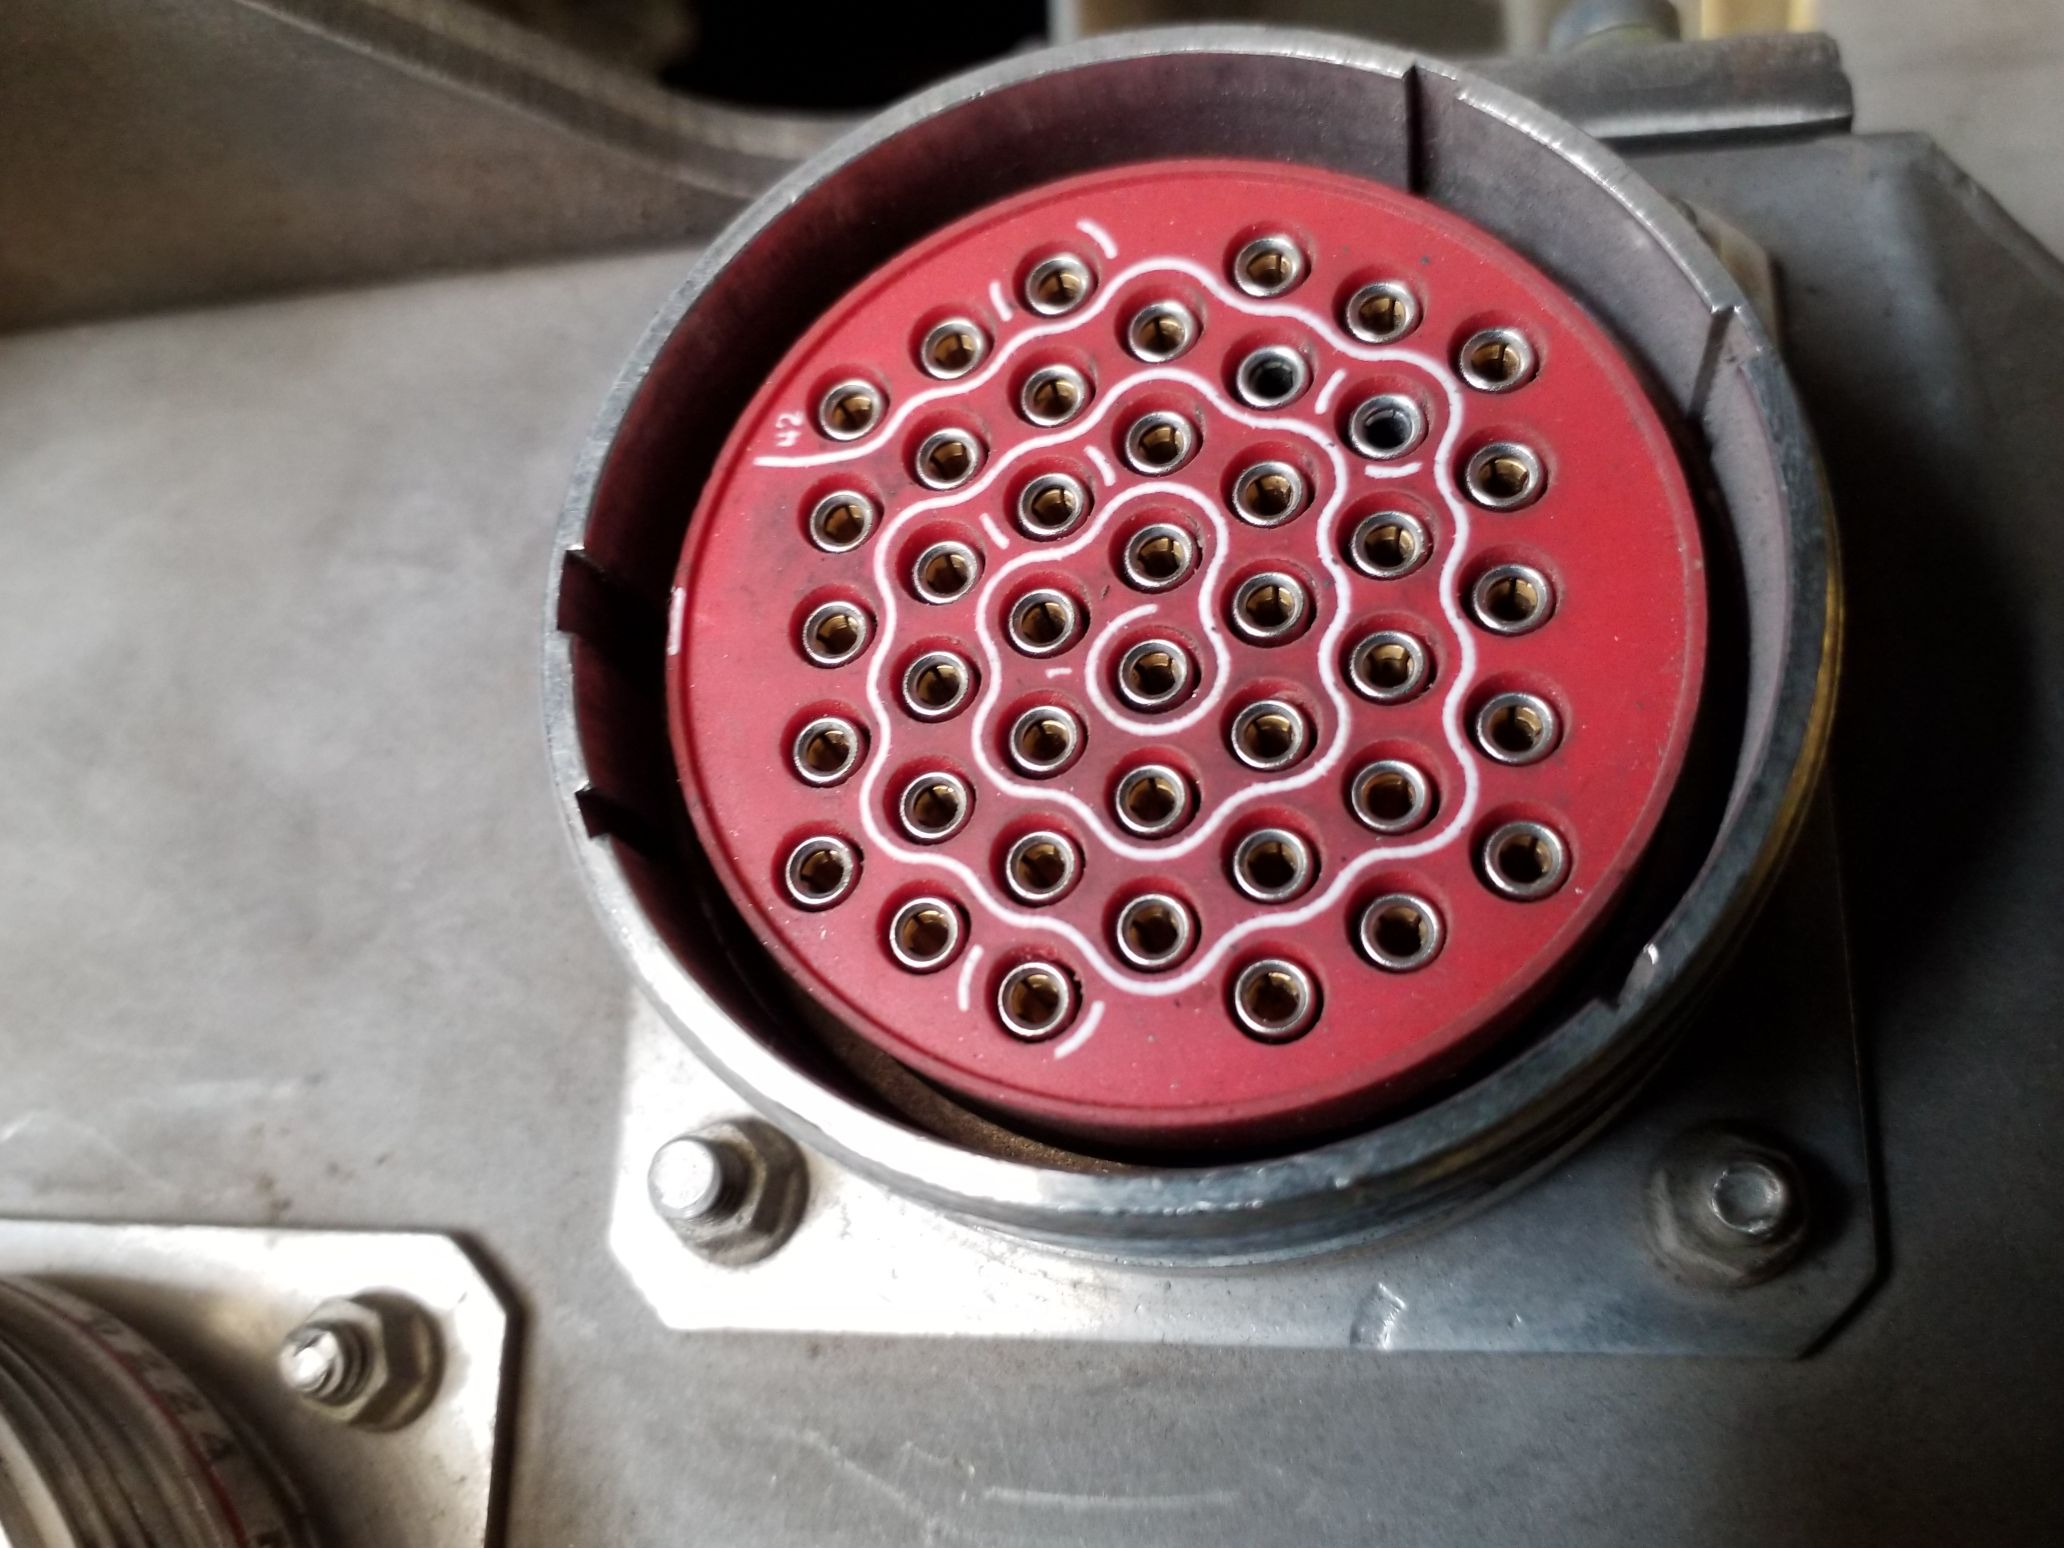inletround: (540, 23, 1840, 1244)
